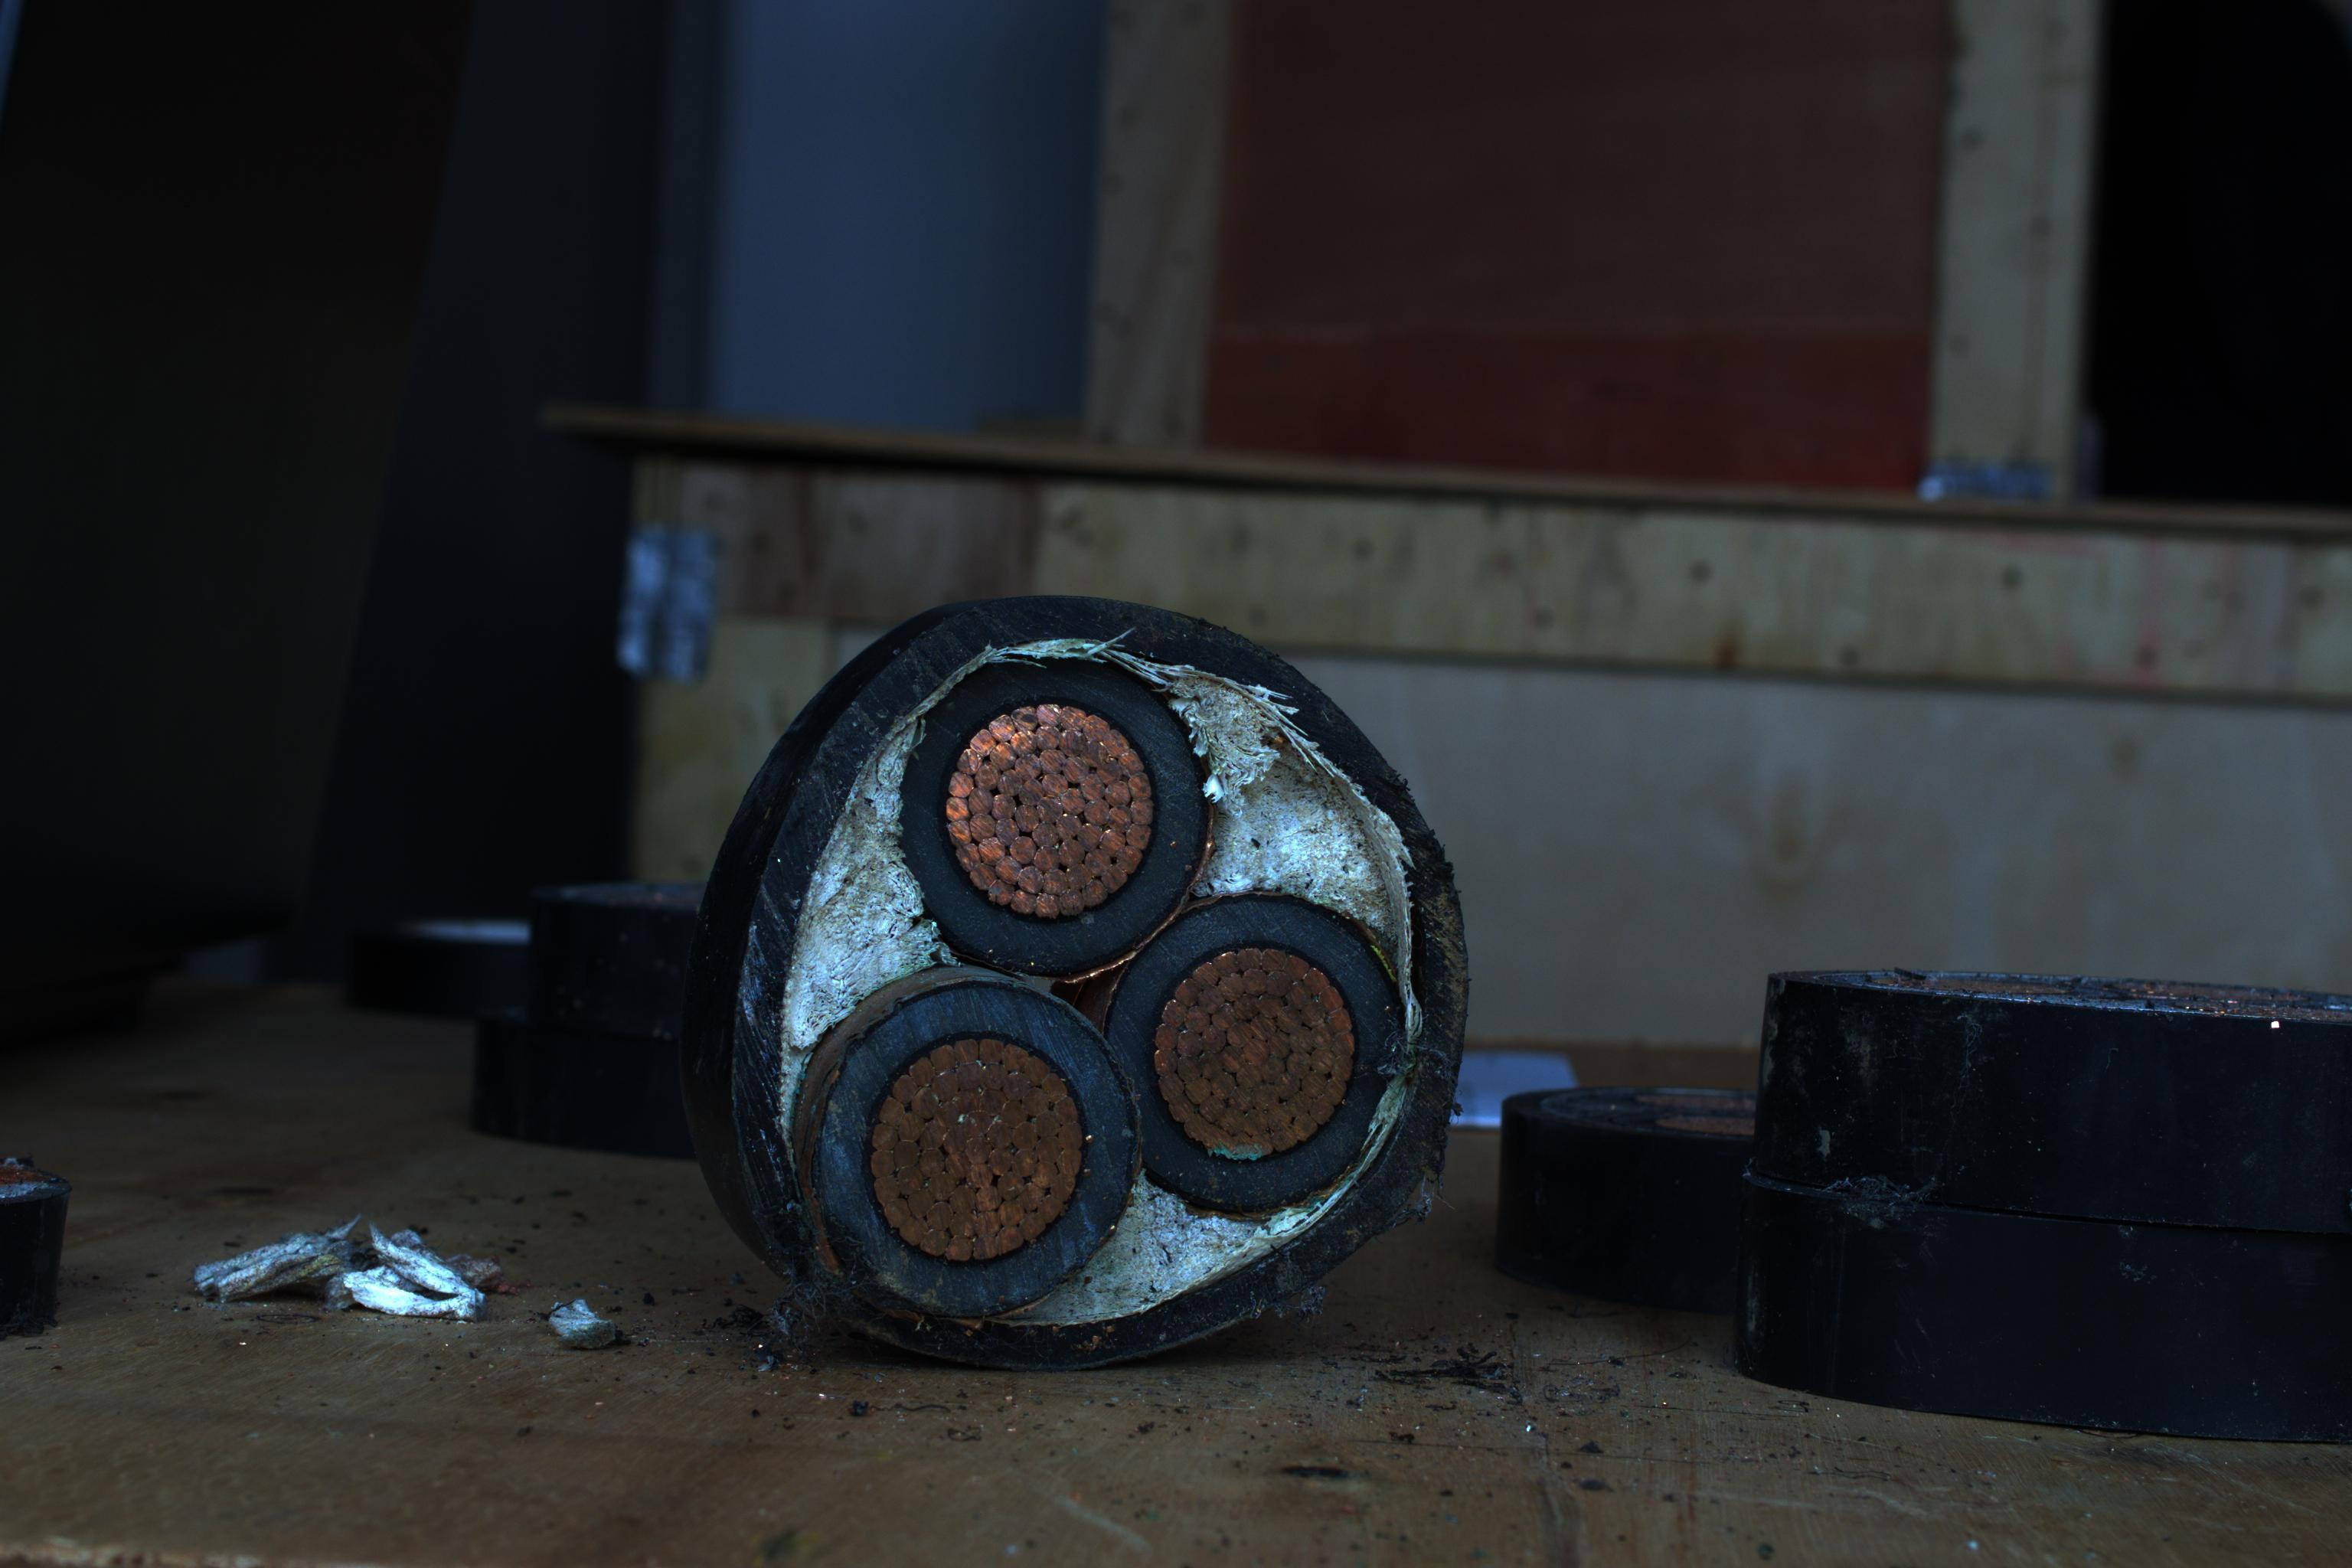ZA_YJV_8.7_10kV_3x400: (724, 630, 1458, 1323)
